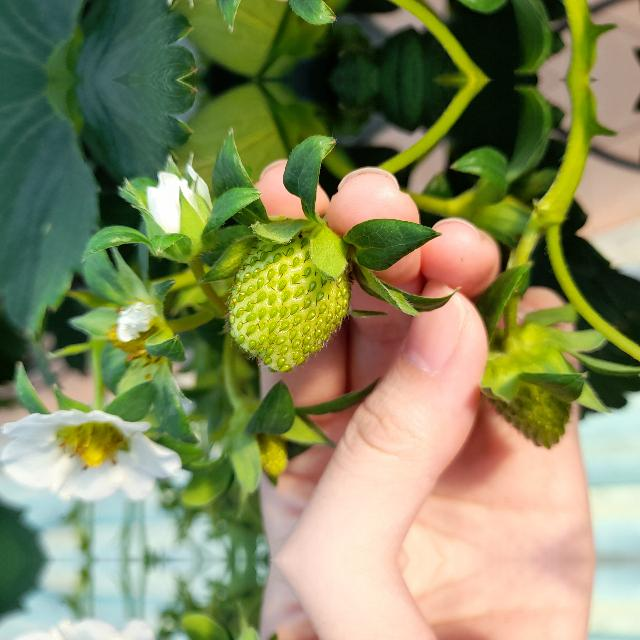Health_25: (226, 228, 348, 374), (482, 332, 584, 454)
